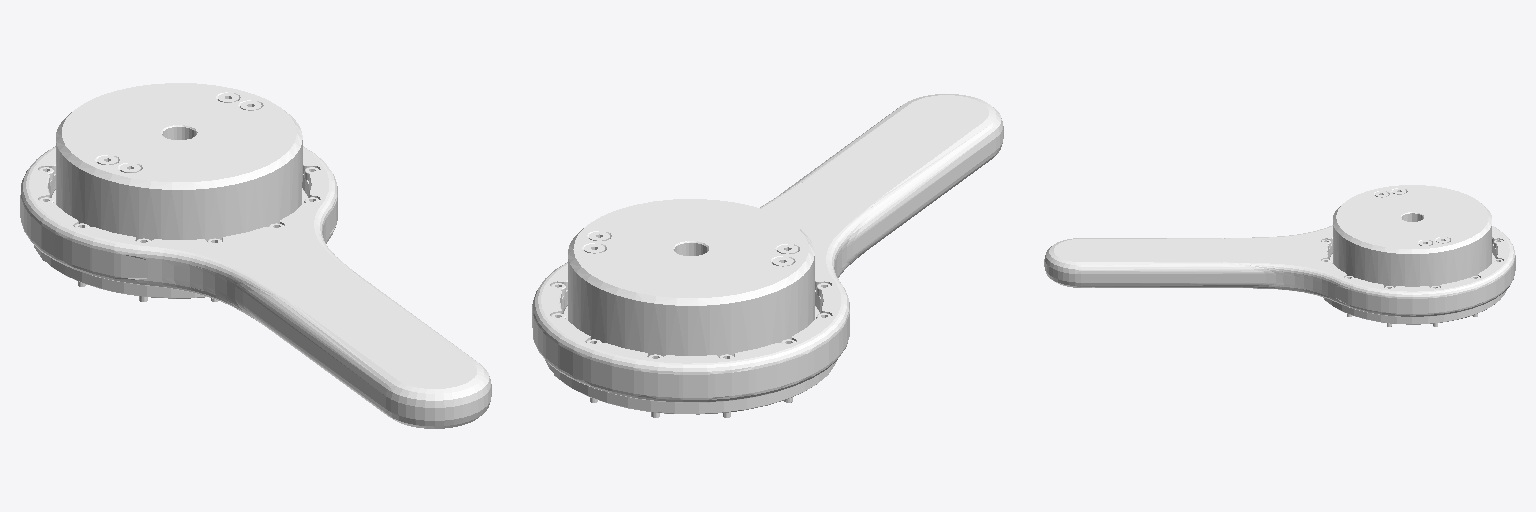
URDF robot description (SEA.SLDASM):
<?xml version="1.0" encoding="utf-8"?>
<!-- This URDF was automatically created by SolidWorks to URDF Exporter! Originally created by [author] ([email redacted]) 
     Commit Version: 1.6.0-4-g7f85cfe  Build Version: 1.6.7995.38578
     For more information, please see http://wiki.ros.org/sw_urdf_exporter -->
<robot
  name="SEA.SLDASM">
  <link
    name="base_link">
    <inertial>
      <origin
        xyz="2.70466379110045E-05 -0.000100912301995015 -0.0331407173590217"
        rpy="0 0 0" />
      <mass
        value="0.163370758295033" />
      <inertia
        ixx="0.000114508550909783"
        ixy="-1.98510263322949E-07"
        ixz="-1.3799422699399E-08"
        iyy="0.000115196365963524"
        iyz="5.15106354024472E-08"
        izz="0.000199930875411694" />
    </inertial>
    <visual>
      <origin
        xyz="0 0 0"
        rpy="0 0 0" />
      <geometry>
        <mesh
          filename="package://SEA.SLDASM/meshes/base_link.STL" />
      </geometry>
      <material
        name="">
        <color
          rgba="1 1 1 1" />
      </material>
    </visual>
    <collision>
      <origin
        xyz="0 0 0"
        rpy="0 0 0" />
      <geometry>
        <mesh
          filename="package://SEA.SLDASM/meshes/base_link.STL" />
      </geometry>
    </collision>
  </link>
  <link
    name="link1">
    <inertial>
      <origin
        xyz="-4.47840845456552E-15 8.37670026046813E-15 0.00497455940720501"
        rpy="0 0 0" />
      <mass
        value="0.168285781839828" />
      <inertia
        ixx="5.14593860531366E-05"
        ixy="-9.99024975732121E-06"
        ixz="3.34921239797784E-18"
        iyy="5.17987691061029E-05"
        iyz="-1.60666243711124E-17"
        izz="0.000100418216185041" />
    </inertial>
    <visual>
      <origin
        xyz="0 0 0"
        rpy="0 0 0" />
      <geometry>
        <mesh
          filename="package://SEA.SLDASM/meshes/link1.STL" />
      </geometry>
      <material
        name="">
        <color
          rgba="0.615686274509804 0.643137254901961 0.674509803921569 1" />
      </material>
    </visual>
    <collision>
      <origin
        xyz="0 0 0"
        rpy="0 0 0" />
      <geometry>
        <mesh
          filename="package://SEA.SLDASM/meshes/link1.STL" />
      </geometry>
    </collision>
  </link>
  <joint
    name="joint1"
    type="continuous">
    <origin
      xyz="0 0 0"
      rpy="0 0 0" />
    <parent
      link="base_link" />
    <child
      link="link1" />
    <axis
      xyz="0 0 -1" />
  </joint>
  <link
    name="link2">
    <inertial>
      <origin
        xyz="-3.4294608200376E-17 3.02703587071172E-17 -0.00276504413921744"
        rpy="0 0 0" />
      <mass
        value="0.0639107412981245" />
      <inertia
        ixx="6.57740764812995E-05"
        ixy="1.74280210323986E-07"
        ixz="-1.97227439377815E-20"
        iyy="6.53801005945334E-05"
        iyz="1.31181285500663E-20"
        izz="0.000104602735322915" />
    </inertial>
    <visual>
      <origin
        xyz="0 0 0"
        rpy="0 0 0" />
      <geometry>
        <mesh
          filename="package://SEA.SLDASM/meshes/link2.STL" />
      </geometry>
      <material
        name="">
        <color
          rgba="1 1 1 1" />
      </material>
    </visual>
    <collision>
      <origin
        xyz="0 0 0"
        rpy="0 0 0" />
      <geometry>
        <mesh
          filename="package://SEA.SLDASM/meshes/link2.STL" />
      </geometry>
    </collision>
  </link>
  <joint
    name="joint2"
    type="continuous">
    <origin
      xyz="0 0 0"
      rpy="0 0 0" />
    <parent
      link="link1" />
    <child
      link="link2" />
    <axis
      xyz="0 0 -1" />
  </joint>
  <link
    name="link3">
    <inertial>
      <origin
        xyz="-8.25097574397608E-08 -0.0793934489643136 -0.0125812218525317"
        rpy="0 0 0" />
      <mass
        value="0.130450882195548" />
      <inertia
        ixx="0.00063782691618773"
        ixy="3.78367440077671E-10"
        ixz="-2.55222125757387E-10"
        iyy="7.13352249411973E-05"
        iyz="3.81653637000276E-07"
        izz="0.000704346251138815" />
    </inertial>
    <visual>
      <origin
        xyz="0 0 0"
        rpy="0 0 0" />
      <geometry>
        <mesh
          filename="package://SEA.SLDASM/meshes/link3.STL" />
      </geometry>
      <material
        name="">
        <color
          rgba="1 1 1 1" />
      </material>
    </visual>
    <collision>
      <origin
        xyz="0 0 0"
        rpy="0 0 0" />
      <geometry>
        <mesh
          filename="package://SEA.SLDASM/meshes/link3.STL" />
      </geometry>
    </collision>
  </link>
  <joint
    name="joint3"
    type="continuous">
    <origin
      xyz="0 0 0"
      rpy="0 0 0" />
    <parent
      link="link2" />
    <child
      link="link3" />
    <axis
      xyz="0 0 -1" />
  </joint>
</robot>

--- Render facts (derived) ---
3 views of the same robot in one strip: view 1: azimuth 30°, elevation 25°; view 2: azimuth 150°, elevation 25°; view 3: azimuth 270°, elevation 25° (orthographic).
Model SEA.SLDASM with 4 links and 3 joints (3 continuous), rooted at base_link, posed all joints at 0.
Links seen in each view (by area): view 1: link3, link2; view 2: link3, link2; view 3: link3, link2.
Link boxes in pixels (x1,y1,x2,y2): link3: (20,146,491,428); link2: (34,83,307,298); link3: (532,94,1003,417); link2: (545,199,836,414); link3: (1044,225,1515,326); link2: (1323,185,1506,324).
Size in the robot's own frame: 0.112 by 0.256 by 0.0434 metres.
Meshes: 4 distinct files referenced, 3 mesh visuals loaded (3 binary STL); not drawn: 1 (reference not matched to a file when rendering).